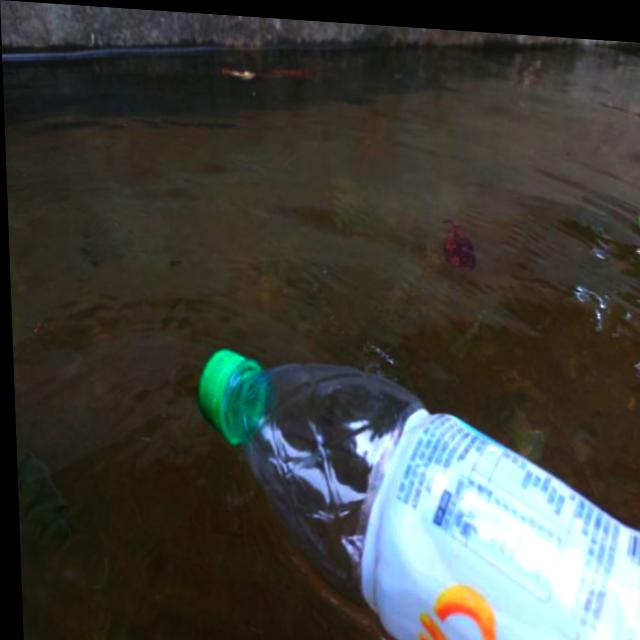leaf: (221, 33, 337, 98), (434, 198, 488, 265), (613, 197, 640, 248)
waterbottle: (198, 331, 640, 640)
